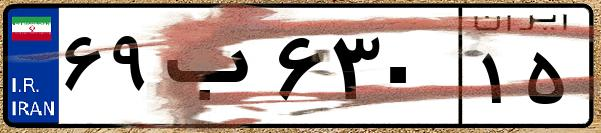0: (385, 28, 445, 110)
1: (475, 38, 525, 113)
3: (330, 28, 385, 110)
5: (525, 38, 570, 115)
6: (270, 28, 330, 110), (57, 26, 110, 100)
9: (110, 28, 158, 98)
ب: (158, 20, 270, 120)
